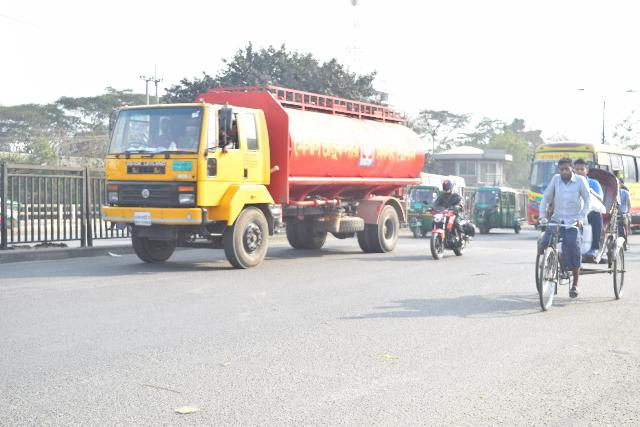bus: (527, 142, 640, 240)
motorcycle: (421, 174, 466, 271)
truck: (101, 86, 425, 264)
